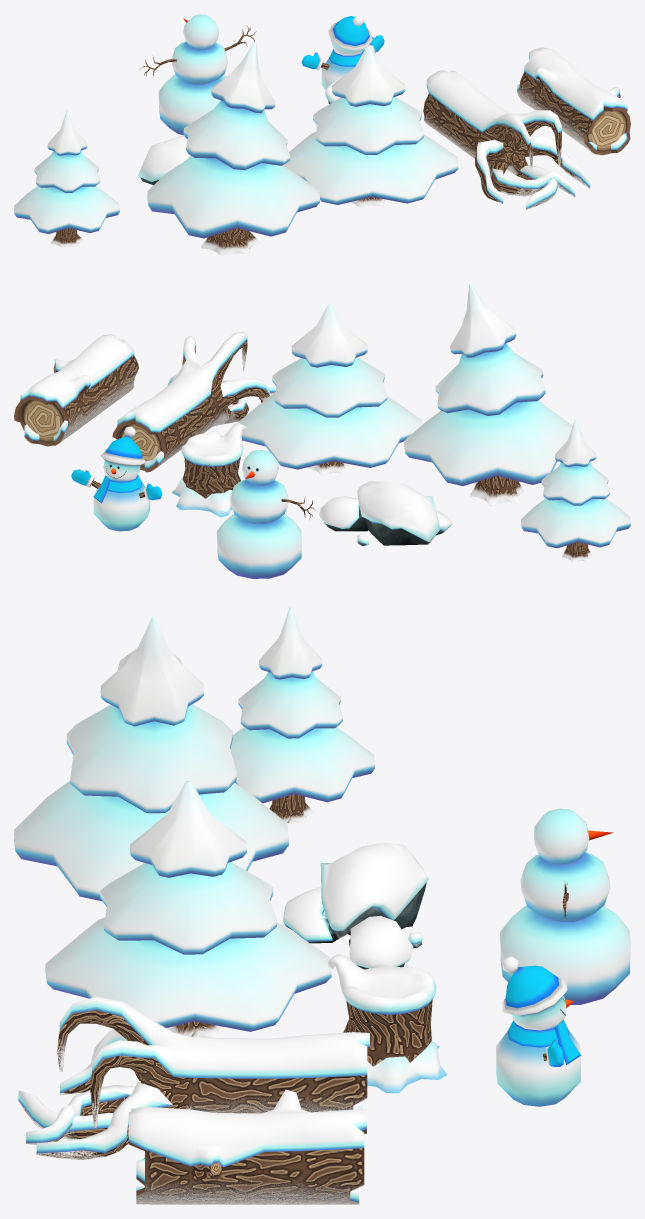
Rendered from hurdle01.glb.
3 views of the same model, one above another, from view 1: azimuth 30°, elevation 25°; view 2: azimuth 150°, elevation 25°; view 3: azimuth 270°, elevation 25° (orthographic). The views are drawn at different scales.
Visible parts, largest first — view 1: model pack 02_model pack 02_0; view 2: model pack 02_model pack 02_0; view 3: model pack 02_model pack 02_0.
Boxes of the visible parts, <box> form: model pack 02_model pack 02_0: <box>14,14,630,255</box>; model pack 02_model pack 02_0: <box>14,284,630,578</box>; model pack 02_model pack 02_0: <box>14,607,630,1204</box>.
Size of the model in its own units: 760 by 251 by 446.
Materials: 1 (1 with a texture image).
